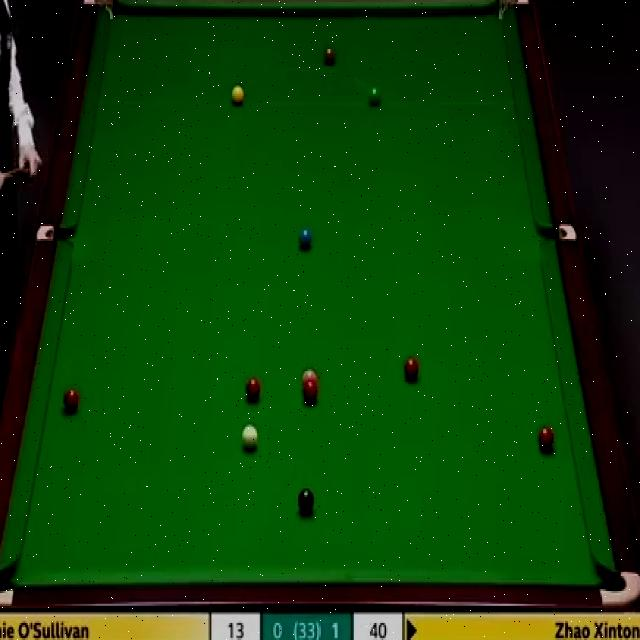black-ball: (298, 486, 315, 514)
blue-ball: (298, 226, 314, 250)
brown-ball: (322, 46, 336, 66)
green-ball: (367, 85, 381, 106)
pink-ball: (301, 369, 318, 384)
red-ball: (63, 386, 80, 414), (538, 428, 556, 451), (403, 357, 419, 382), (301, 381, 319, 403), (244, 378, 260, 401)
white-ball: (240, 424, 258, 451)
yellow-ball: (233, 86, 246, 108)
